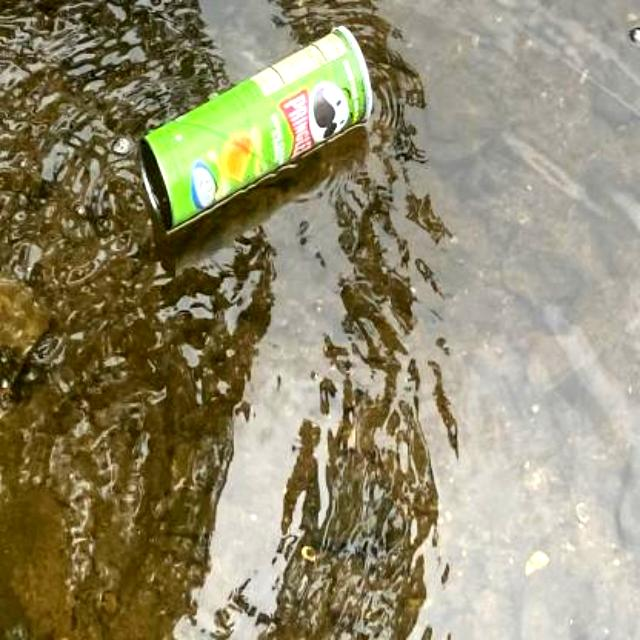Metal: (125, 12, 388, 245)
